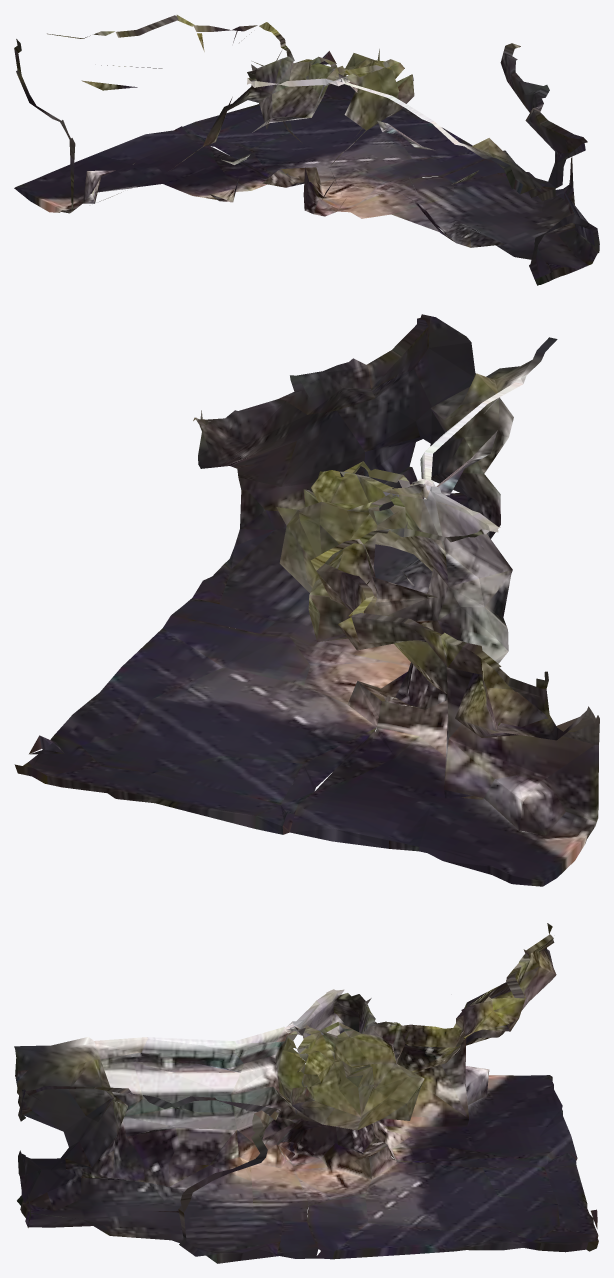
3 views of the same model, one above another, from view 1: azimuth 30°, elevation 25°; view 2: azimuth 150°, elevation 25°; view 3: azimuth 270°, elevation 25° (orthographic). The views are drawn at different scales.
Parts seen in each view (by area): view 1: Mesh_0; view 2: Mesh_0; view 3: Mesh_0.
Boxes of the visible parts, x1,y1,x2,y2 form: Mesh_0: [14, 15, 599, 285]; Mesh_0: [14, 314, 599, 886]; Mesh_0: [14, 923, 598, 1263].
Size of the model in its own units: 32.24 by 12.59 by 39.49.
Materials: 1 (1 with a texture image).
